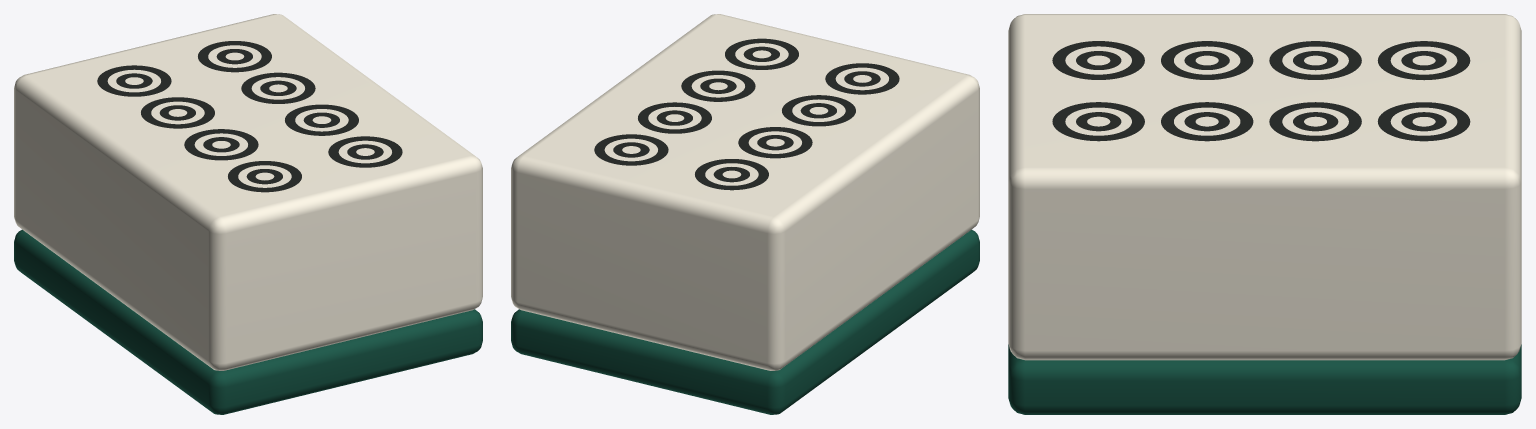
The model's file is tong-08.glb.
The picture shows the model from 3 angles, left to right: view 1: azimuth 30°, elevation 25°; view 2: azimuth 150°, elevation 25°; view 3: azimuth 270°, elevation 25°; orthographic projection. The views are drawn at different scales.
Visible parts, largest first — view 1: tong-08_ivory, tong-08_back, tong-08_face_inlays; view 2: tong-08_ivory, tong-08_back, tong-08_face_inlays; view 3: tong-08_ivory, tong-08_back, tong-08_face_inlays.
Boxes of the visible parts, x1,y1,x2,y2 form: tong-08_ivory: [14, 14, 482, 370]; tong-08_back: [14, 229, 482, 414]; tong-08_face_inlays: [97, 41, 402, 192]; tong-08_ivory: [511, 14, 979, 370]; tong-08_back: [511, 229, 979, 414]; tong-08_face_inlays: [594, 38, 899, 190]; tong-08_ivory: [1008, 14, 1521, 360]; tong-08_back: [1008, 344, 1521, 414]; tong-08_face_inlays: [1052, 41, 1470, 141].
Bounding box in the file's own units: 0.026 × 0.018 × 0.034.
